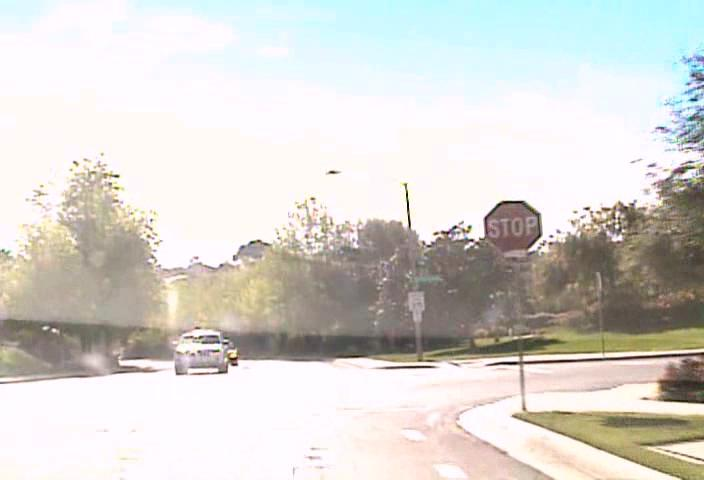stop: (483, 199, 542, 254)
